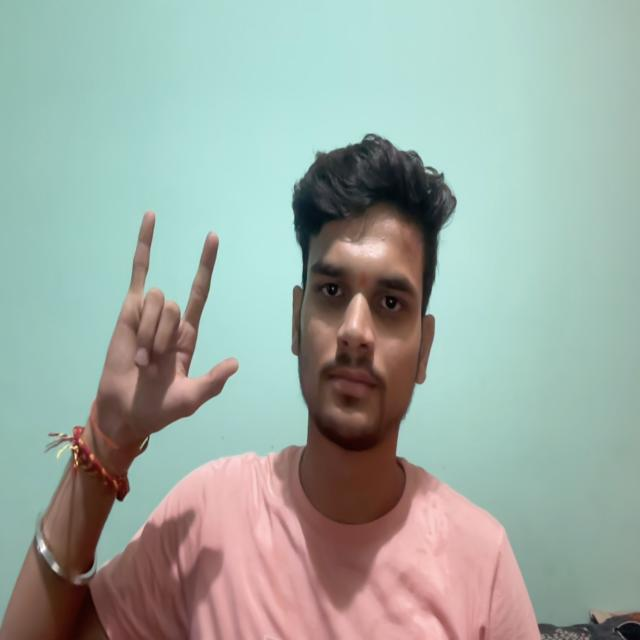iloveyou: (66, 174, 244, 488)
